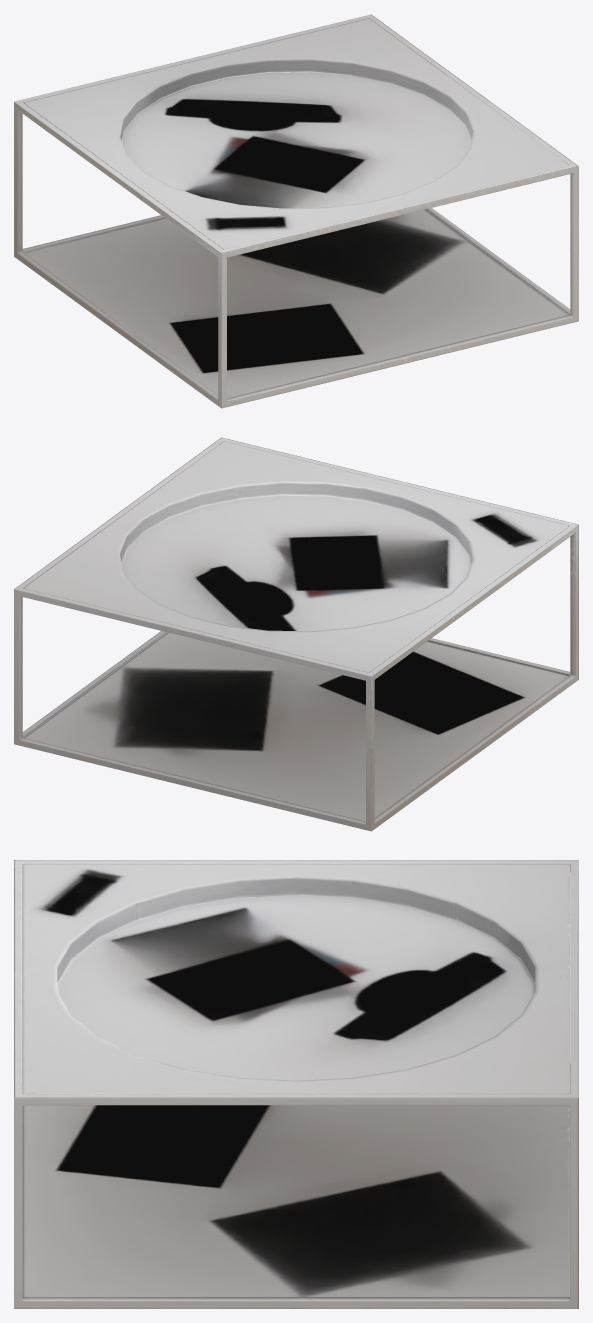
The model's file is tablesofa.gltf.
The picture shows the model from 3 angles, top to bottom: view 1: azimuth 30°, elevation 25°; view 2: azimuth 150°, elevation 25°; view 3: azimuth 270°, elevation 25°; orthographic projection. The views are drawn at different scales.
Visible parts, largest first — view 1: tablesofa; view 2: tablesofa; view 3: tablesofa.
Boxes of the visible parts, x1,y1,x2,y2 form: tablesofa: (14, 14, 578, 408); tablesofa: (14, 437, 578, 831); tablesofa: (14, 860, 578, 1308).
Size of the model in its own units: 0.9328 by 0.3865 by 0.9373.
Materials: 1 (1 with a texture image).
